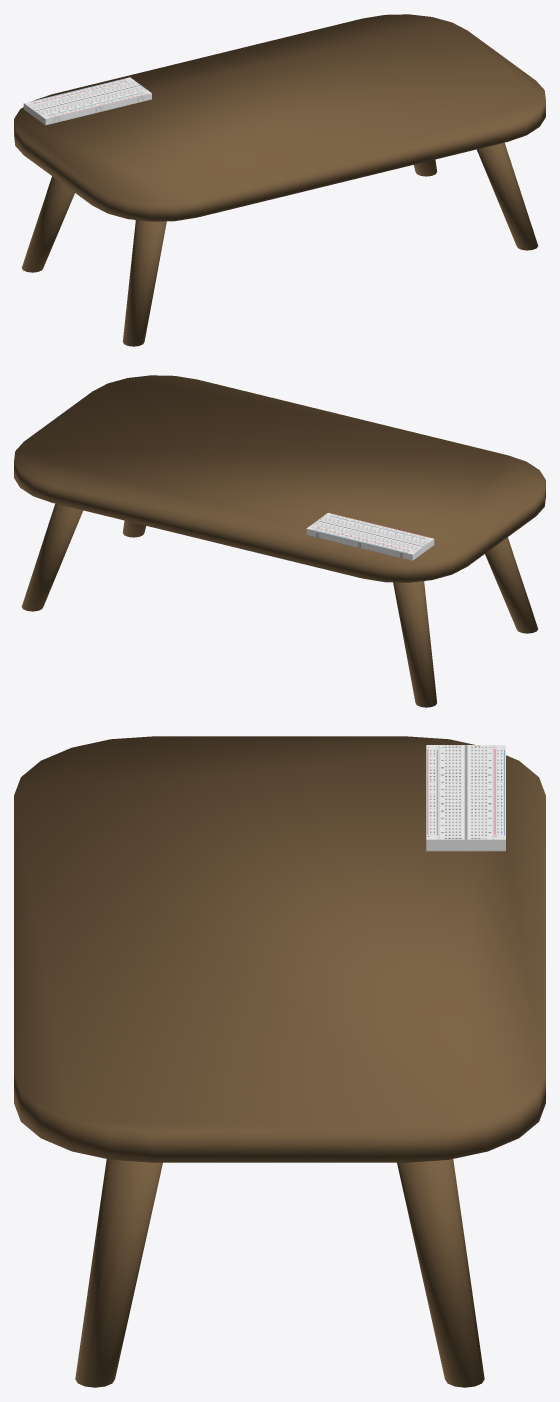
Rendered from cs_module12_7432_or_gate_ic.glb.
3 views of the same model, one above another, from view 1: azimuth 30°, elevation 25°; view 2: azimuth 150°, elevation 25°; view 3: azimuth 270°, elevation 25° (orthographic). The views are drawn at different scales.
Parts seen in each view (by area): view 1: Cube.002, Cylinder.001, LP; view 2: Cube.002, Cylinder.001, LP, LP_breadboard_0.001; view 3: Cube.002, Cylinder.001, LP.
Part boxes in pixels (bbox=[...]): Cube.002: bbox=[14, 14, 545, 221]; Cylinder.001: bbox=[22, 142, 538, 346]; LP: bbox=[24, 77, 151, 125]; Cube.002: bbox=[14, 375, 545, 582]; Cylinder.001: bbox=[21, 503, 537, 707]; LP: bbox=[306, 513, 433, 560]; LP_breadboard_0.001: bbox=[307, 530, 434, 560]; Cube.002: bbox=[14, 736, 545, 1162]; Cylinder.001: bbox=[75, 1159, 484, 1387]; LP: bbox=[426, 745, 505, 851].
Bounding box in the file's own units: 5.23 × 1.76 × 2.97.
Materials: 4 (2 with a texture image).
